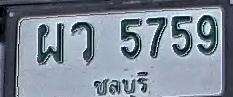5: (120, 18, 142, 58), (172, 15, 192, 56)
7: (146, 16, 166, 58)
9: (197, 15, 217, 54)
A28: (37, 23, 64, 64)
A37: (70, 21, 94, 64)
CBI: (89, 70, 153, 97)
